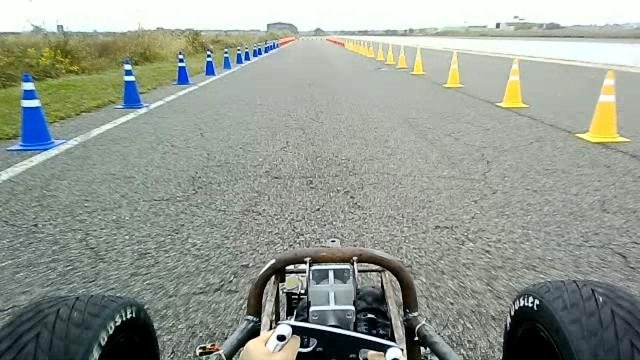blue cone: (5, 71, 67, 151), (114, 57, 149, 109), (172, 50, 194, 85), (204, 48, 217, 76), (222, 47, 232, 69), (235, 45, 244, 64), (244, 44, 252, 61), (256, 42, 263, 56), (252, 43, 258, 58)
yellow cone: (574, 68, 631, 144), (495, 57, 529, 109), (442, 50, 464, 88), (410, 45, 426, 75), (396, 44, 408, 69), (384, 43, 396, 65), (375, 42, 385, 61), (368, 40, 375, 58)
